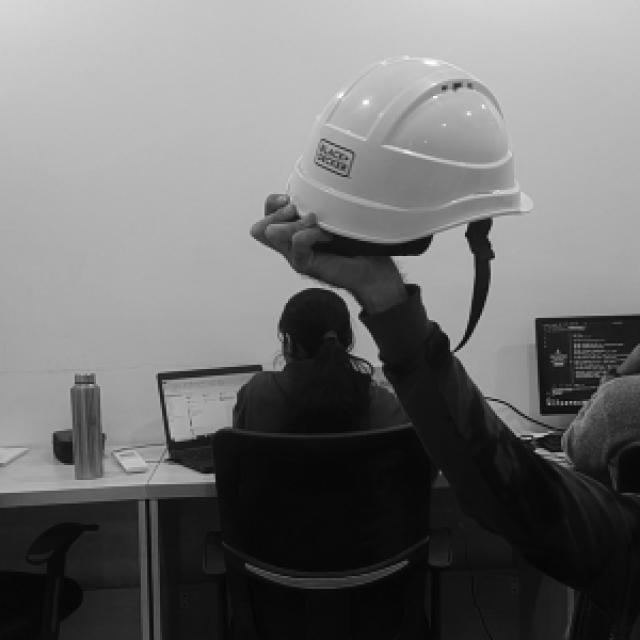safety_helmet: (285, 58, 532, 241)
